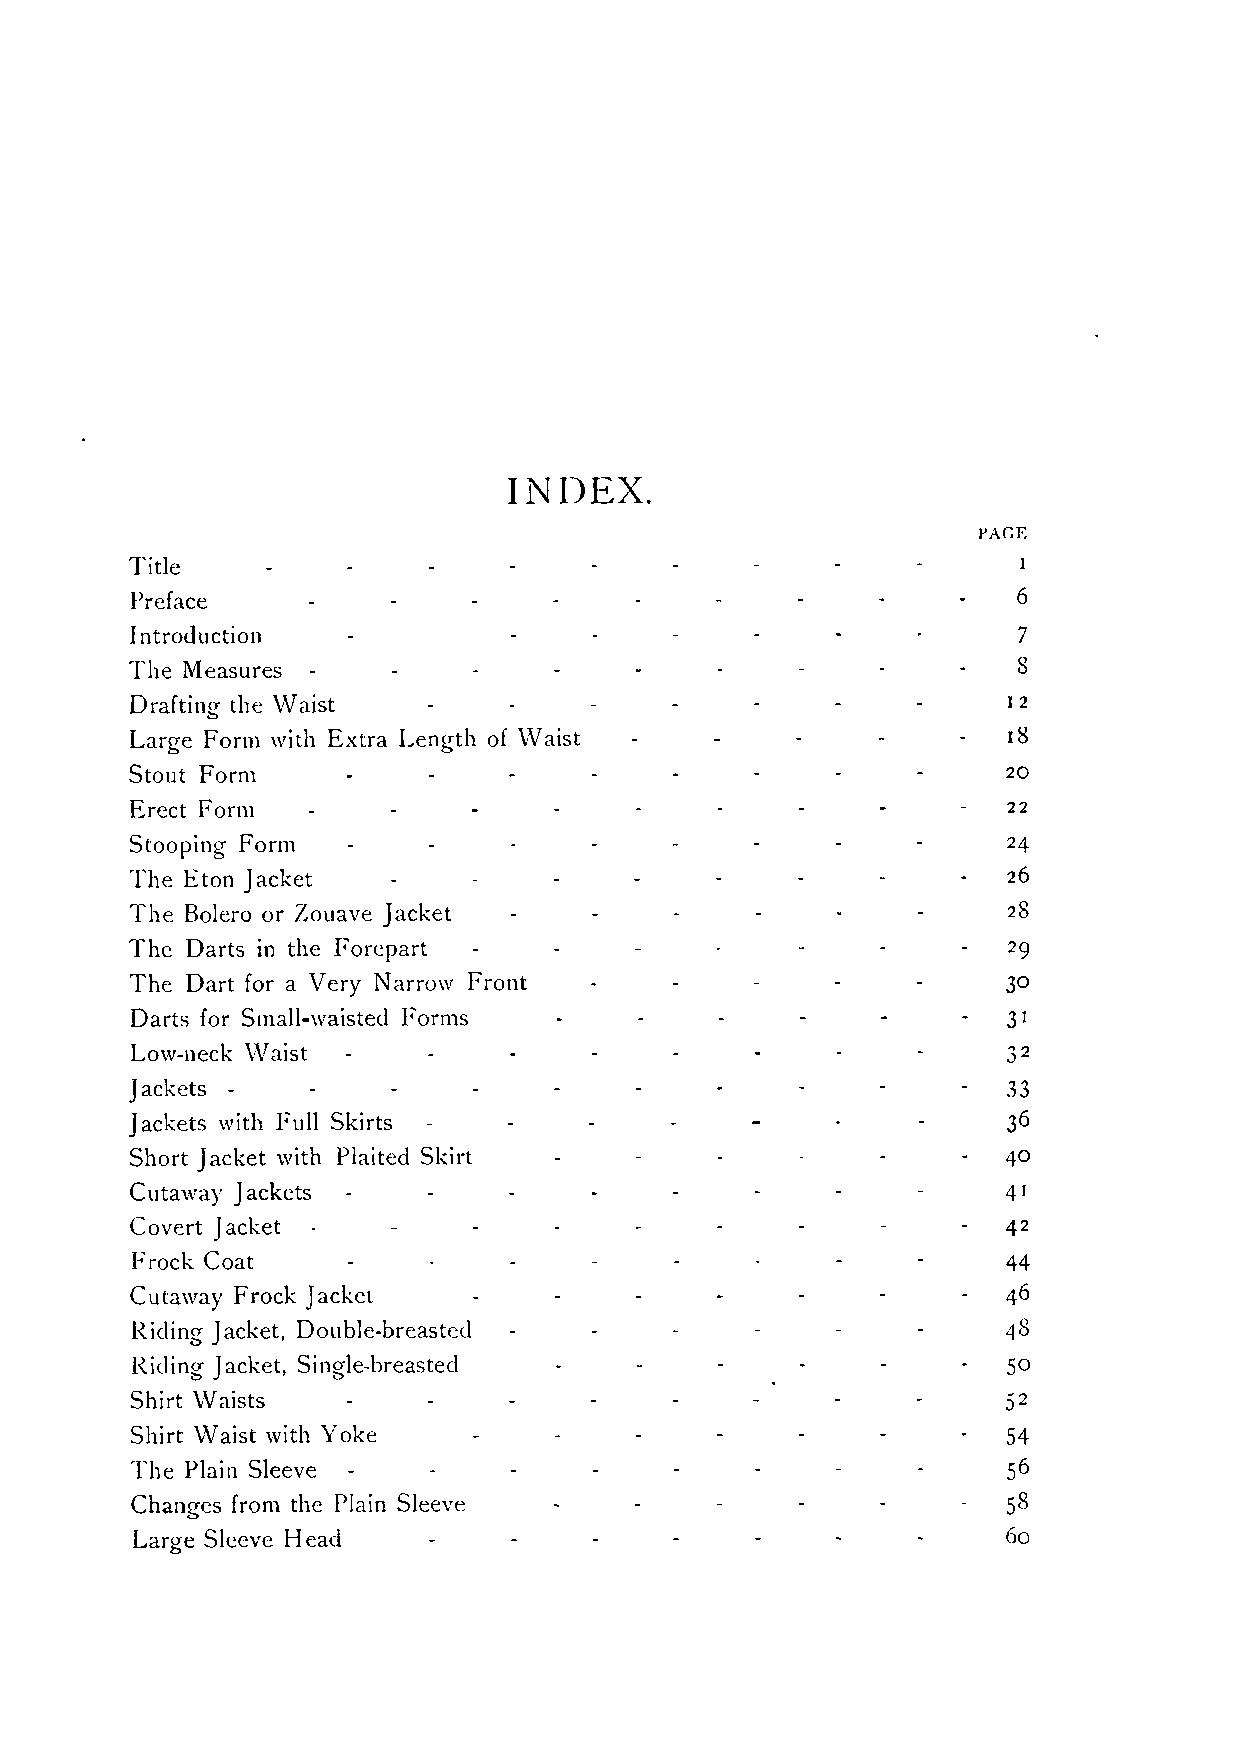TOC_chapter: (123, 727, 585, 752), (126, 969, 531, 994), (129, 1317, 478, 1346), (130, 1351, 462, 1381), (127, 1146, 472, 1174), (125, 934, 433, 965), (126, 900, 454, 929), (130, 1490, 470, 1516), (127, 1004, 468, 1028), (125, 1108, 396, 1138), (126, 1282, 373, 1311), (129, 1421, 376, 1448), (129, 1523, 348, 1551), (127, 692, 335, 719), (129, 1456, 325, 1483), (127, 867, 317, 894), (127, 1180, 313, 1204), (127, 1041, 311, 1066), (127, 832, 298, 858), (126, 1213, 283, 1240), (129, 761, 270, 789), (129, 1386, 260, 1414), (125, 658, 286, 680), (127, 794, 258, 823), (127, 621, 264, 647), (127, 1247, 259, 1272), (129, 588, 212, 613), (123, 1076, 208, 1100), (123, 549, 184, 578)
TOC_pagenumber: (1005, 1108, 1033, 1135), (1002, 1317, 1033, 1339), (1002, 1249, 1033, 1271), (1005, 1075, 1031, 1100), (1004, 1282, 1031, 1306), (1004, 1353, 1031, 1377), (1002, 1145, 1031, 1168), (1006, 935, 1032, 960), (1005, 1040, 1029, 1066), (1005, 1423, 1031, 1447), (1006, 1453, 1031, 1479), (1005, 831, 1031, 854), (1005, 1180, 1031, 1202), (1004, 1523, 1031, 1545), (1002, 1007, 1031, 1027), (1005, 725, 1029, 747), (1006, 1216, 1031, 1239), (1006, 1490, 1031, 1512), (1006, 896, 1031, 918), (1004, 973, 1031, 992), (1004, 1390, 1028, 1410), (1005, 764, 1037, 778), (1002, 866, 1029, 883), (1002, 798, 1031, 815), (1002, 695, 1028, 711), (1015, 582, 1029, 603), (1012, 658, 1028, 672), (1017, 625, 1028, 641), (1019, 554, 1028, 572)
chapter: (501, 468, 659, 509)
